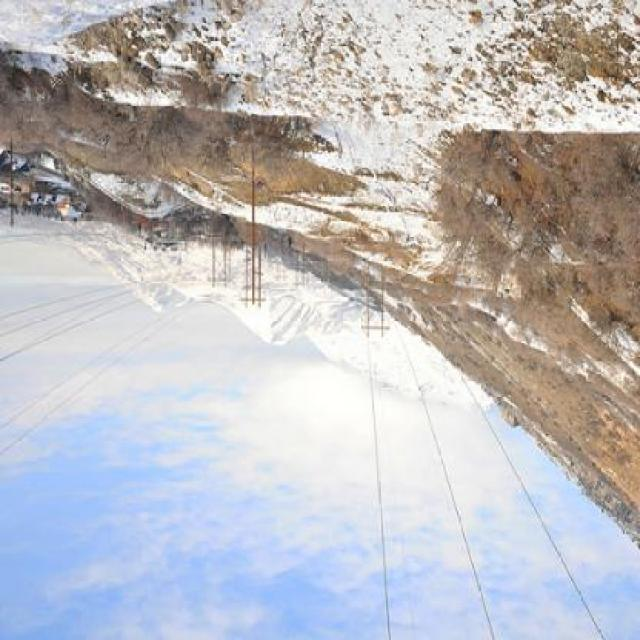pole: (241, 151, 282, 307)
